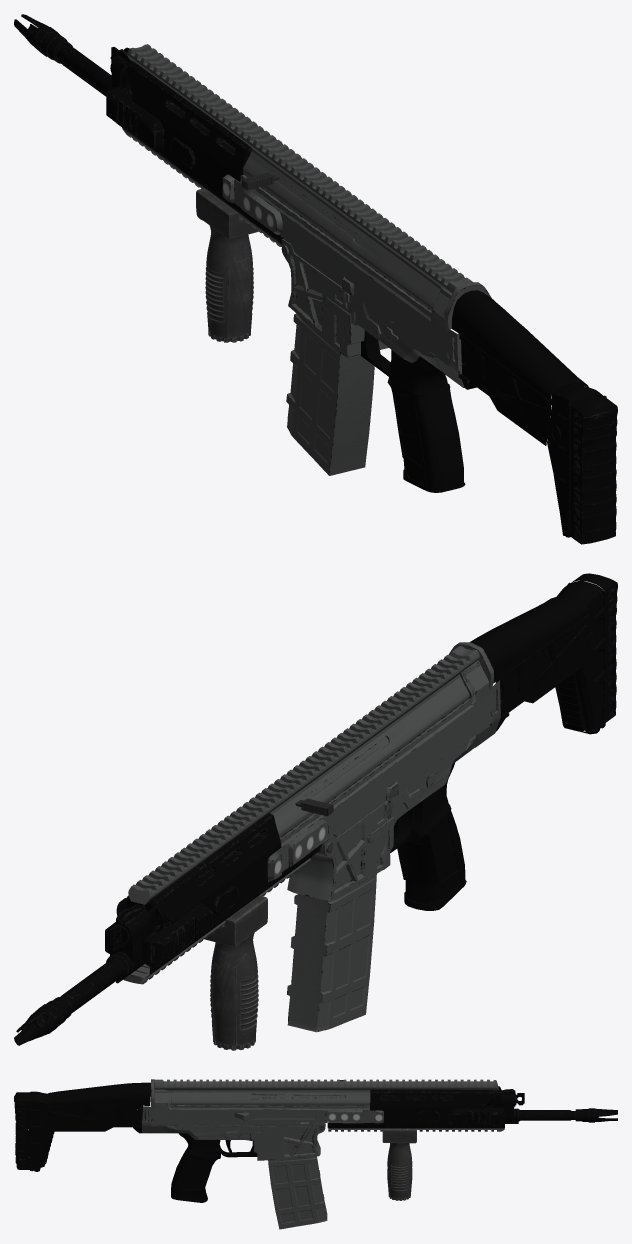
Rendered from cz_806_carbine.glb.
3 renders of one model, top to bottom at view 1: azimuth 30°, elevation 25°; view 2: azimuth 150°, elevation 25°; view 3: azimuth 270°, elevation 25°, orthographic. The views are drawn at different scales.
Bounding box in the file's own units: 0.058 × 0.1962 × 0.745.
Materials: 9 (9 with a texture image).
